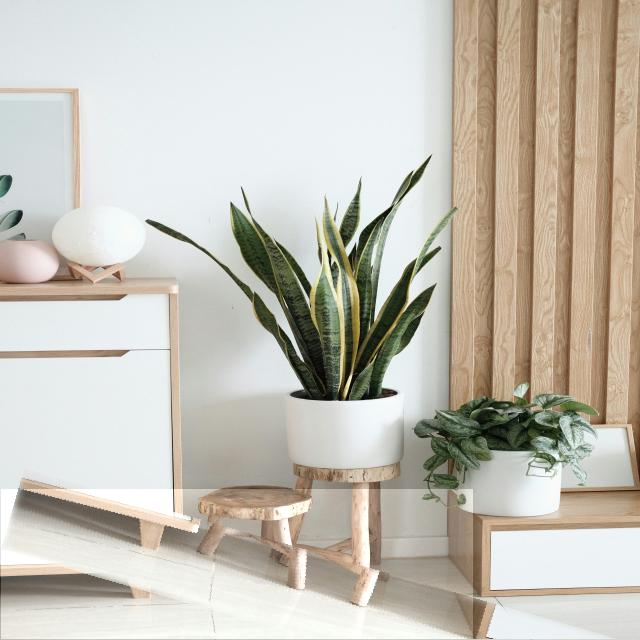floor: (1, 489, 473, 640)
